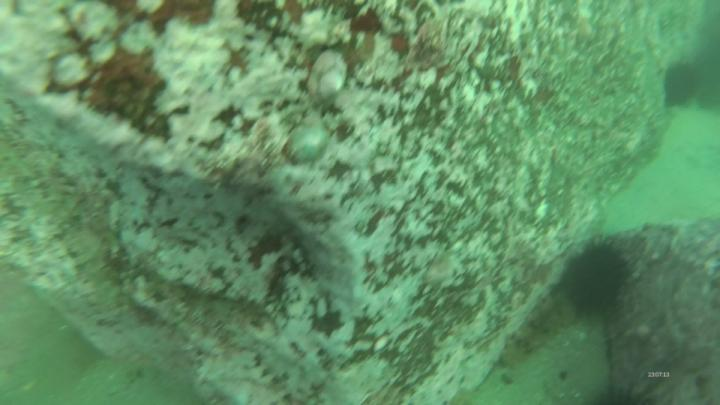echinus: (563, 238, 631, 322), (666, 58, 706, 112)
holothurian: (499, 297, 568, 367)
